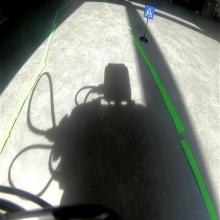crosswalk: (143, 4, 155, 20)
